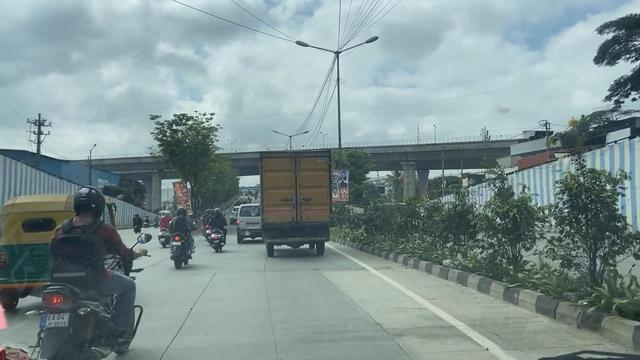HMV: (261, 152, 333, 255)
LMV: (43, 190, 130, 360), (170, 210, 197, 266), (204, 204, 225, 258), (237, 208, 261, 241)
